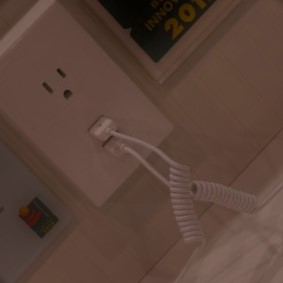outlet: (37, 64, 77, 101)
